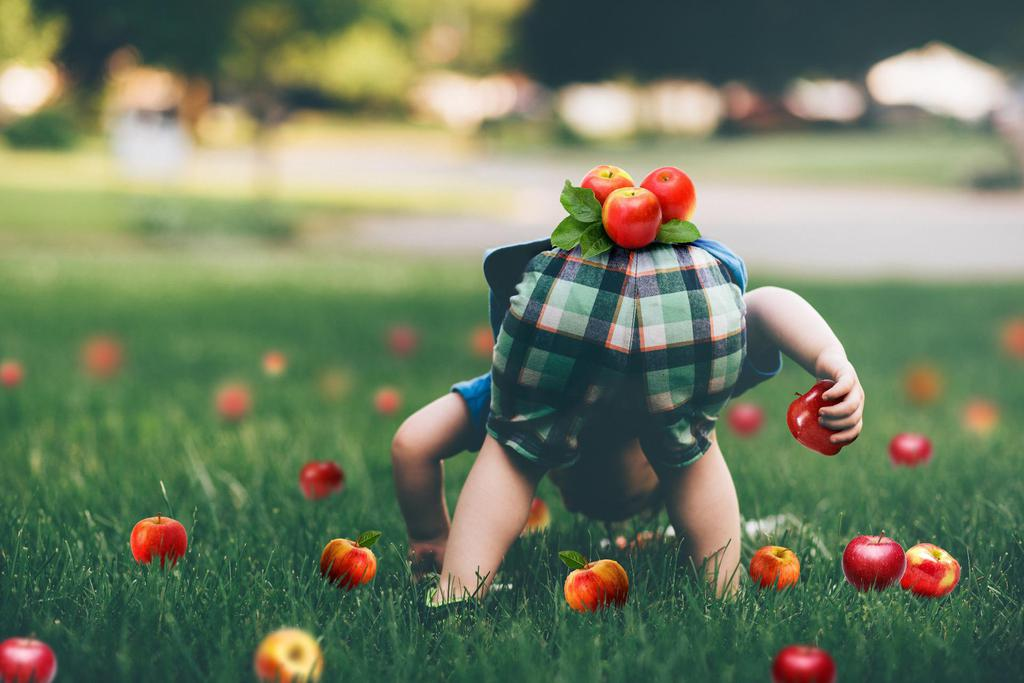child: (370, 159, 882, 635)
